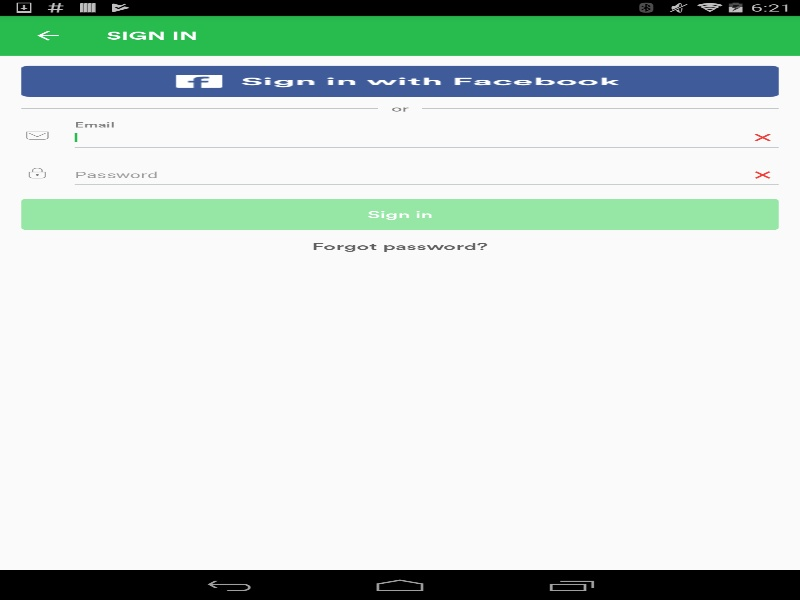Button: (10, 15, 85, 55)
Input: (74, 126, 778, 148), (74, 164, 778, 185)
